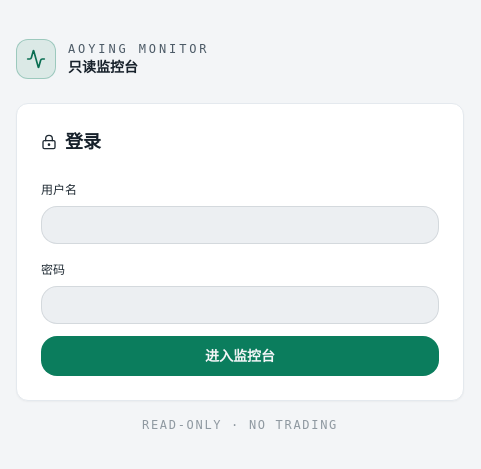
Test case: Session gate › shows the reason when credentials are rejected
The image size is (481, 469).
Type "admin" into the field labelled "用户名" at {"x": 240, "y": 225}, box [41, 206, 439, 244]
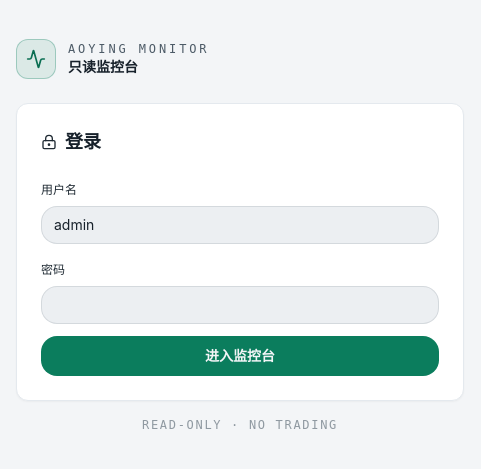
Type "bad" into the password field labelled "密码" at {"x": 240, "y": 305}, box [41, 286, 439, 324]
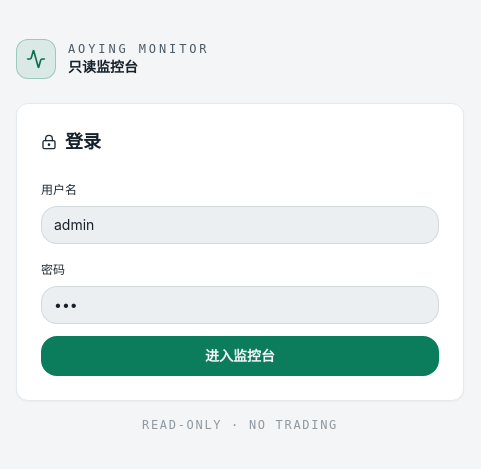
Click the button "进入监控台" at {"x": 240, "y": 356}, box [41, 336, 439, 376]
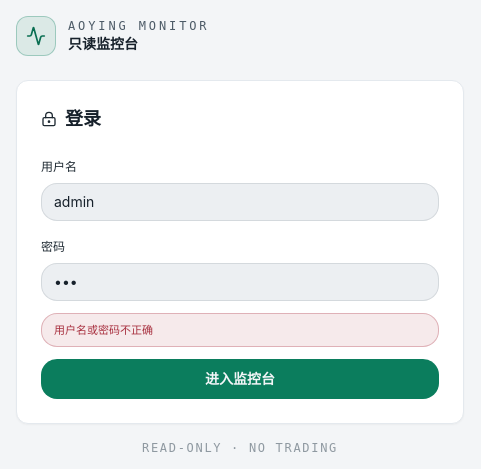
Now the text "用户名或密码不正确" is shown, box [41, 313, 439, 347]
